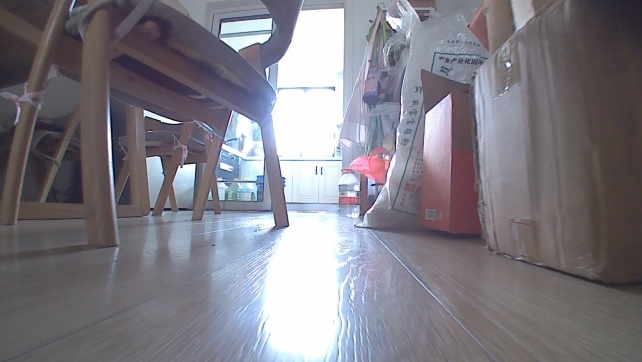dining_table1: (0, 0, 305, 249)
